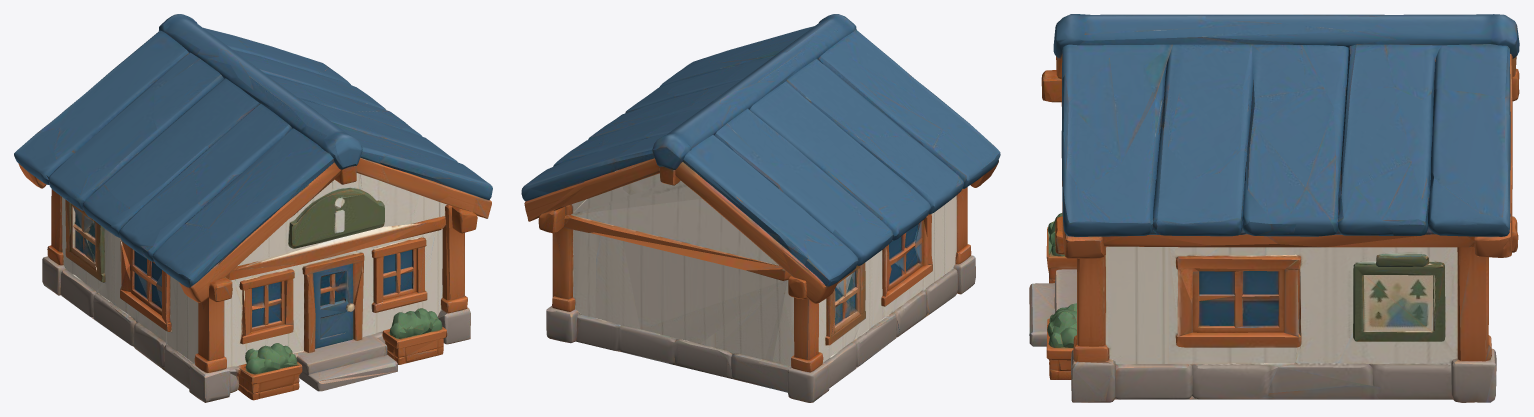
Rendered from salonBuilding.glb.
3 views of the same model, side by side, from view 1: azimuth 30°, elevation 25°; view 2: azimuth 150°, elevation 25°; view 3: azimuth 270°, elevation 25° (orthographic). The views are drawn at different scales.
Visible parts, largest first — view 1: Mesh_0; view 2: Mesh_0; view 3: Mesh_0.
Part boxes in pixels (box(x1,y1,x2,y2)): Mesh_0: box(14, 14, 492, 402); Mesh_0: box(521, 14, 1000, 402); Mesh_0: box(1029, 14, 1519, 402).
Bounding box in the file's own units: 2.85 × 2.07 × 3.
Materials: 1 (1 with a texture image).
